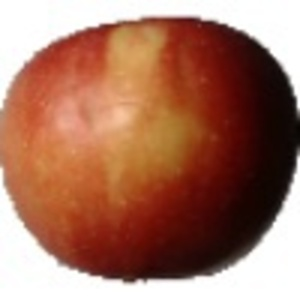maçã braeburn: (1, 14, 300, 284)
